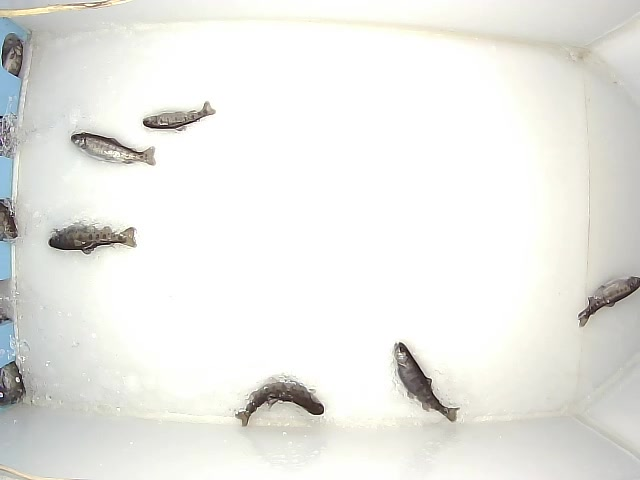fish: (391, 338, 461, 421), (233, 371, 327, 427), (573, 273, 640, 329), (72, 130, 158, 170), (46, 221, 138, 256), (142, 96, 218, 131)
